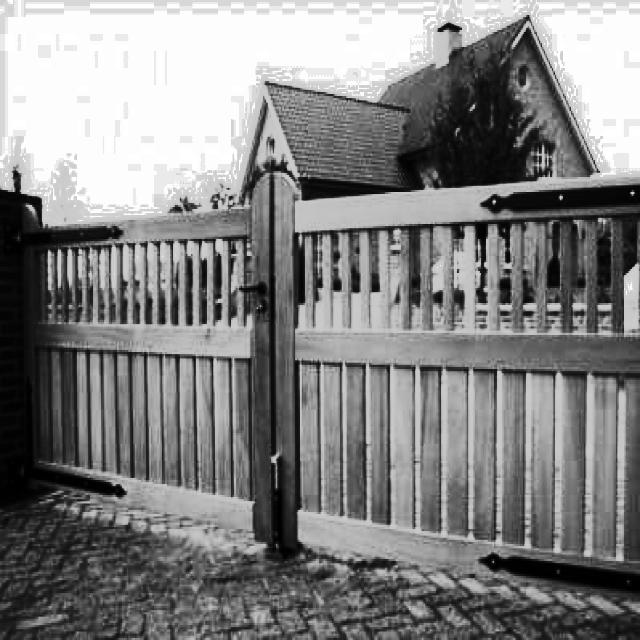fences: (32, 218, 638, 562)
